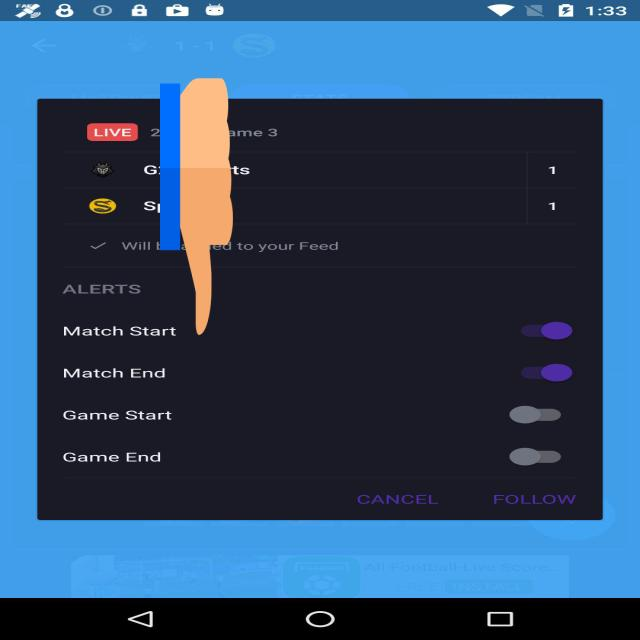obstruction: (160, 72, 233, 341)
